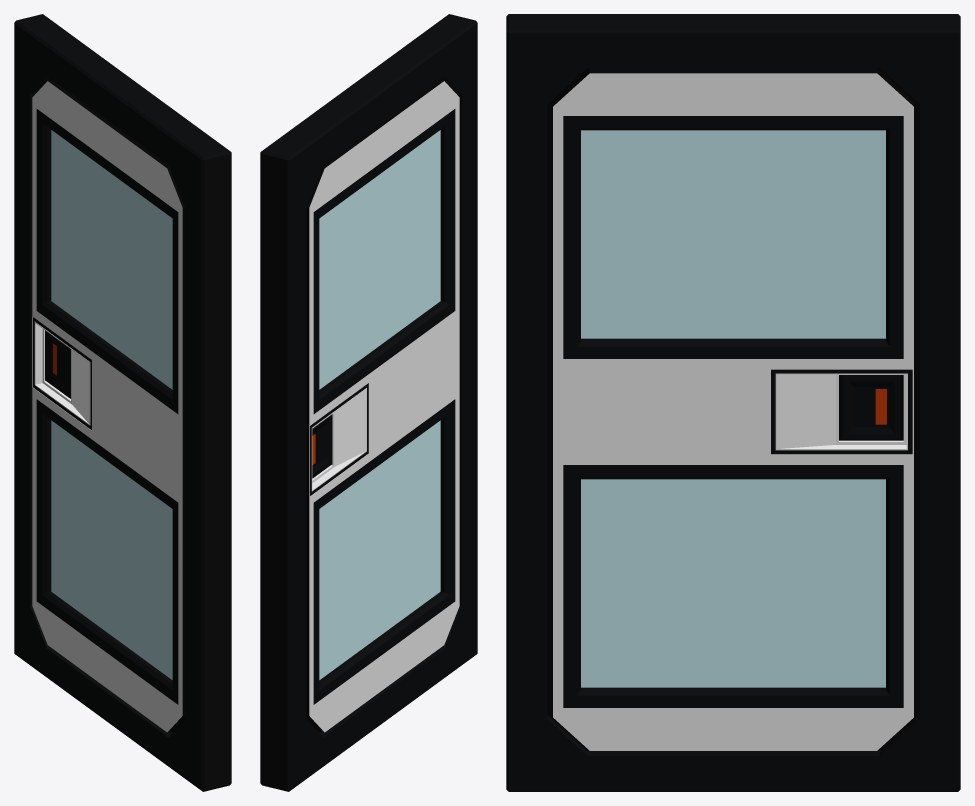
File: SM_Door_Single_V2.obj
3 renders of one model, left to right at view 1: azimuth 30°, elevation 25°; view 2: azimuth 150°, elevation 25°; view 3: azimuth 270°, elevation 25°, orthographic. The views are drawn at different scales.
Visible parts, largest first — view 1: SM_Door_Single_V2; view 2: SM_Door_Single_V2; view 3: SM_Door_Single_V2.
Boxes of the visible parts, x1,y1,x2,y2 form: SM_Door_Single_V2: (14, 14, 231, 791); SM_Door_Single_V2: (260, 14, 477, 791); SM_Door_Single_V2: (506, 14, 960, 791).
Bounding box in the file's own units: 0.0901 × 1.76 × 0.9511.
